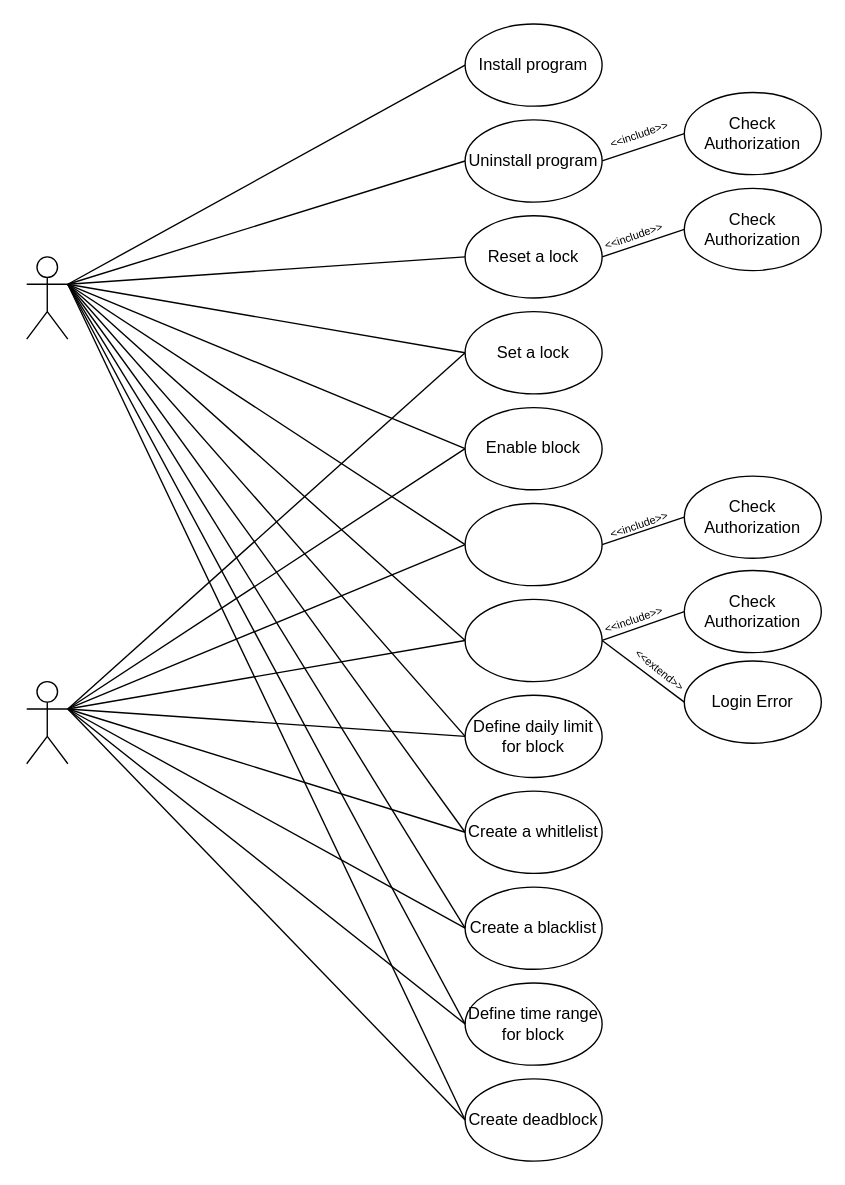
Image size: 845x1185. Some labels were removed from this diagram. The shapes that lost their labels are listed below. From the top down, each one's centre as x and y in pixels, then its label:
At pixel 46 297: "Admin".
At pixel 533 544: "Diasable block".
At pixel 533 640: "Login".
At pixel 46 722: "User".
